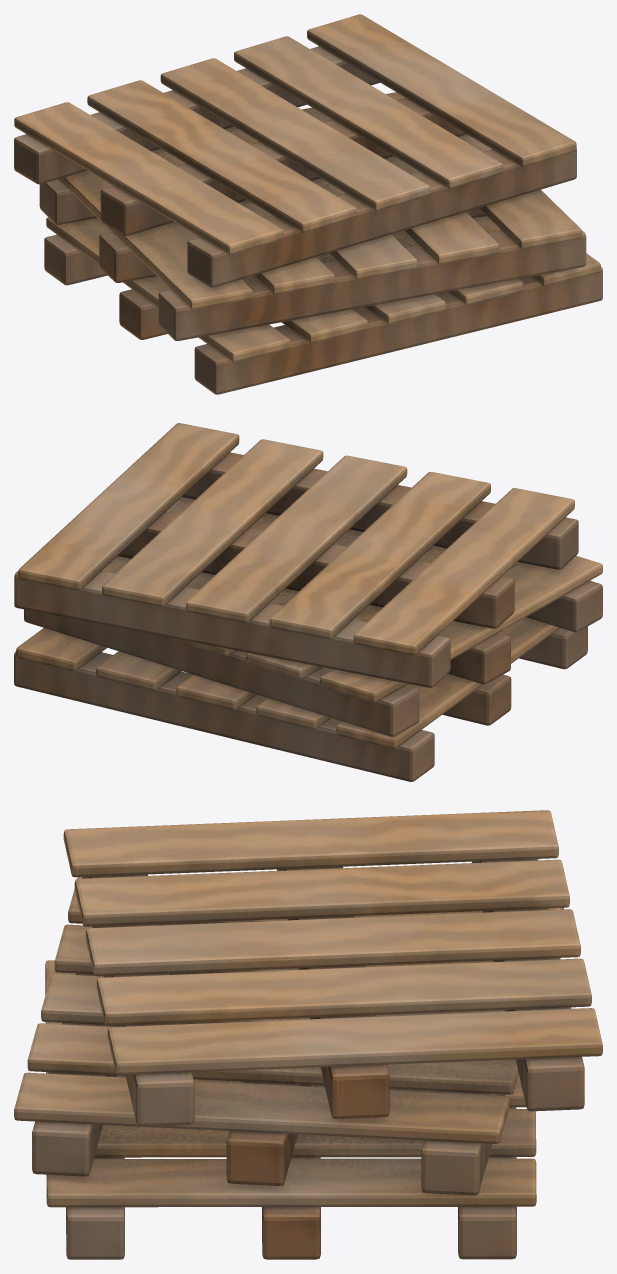
File: pallet_stack.glb
3 renders of one model, top to bottom at view 1: azimuth 30°, elevation 25°; view 2: azimuth 150°, elevation 25°; view 3: azimuth 270°, elevation 25°, orthographic. The views are drawn at different scales.
Parts seen in each view (by area): view 1: Pallet2_Mesh, Pallet1_Mesh, Pallet0_Mesh; view 2: Pallet2_Mesh, Pallet0_Mesh, Pallet1_Mesh; view 3: Pallet2_Mesh, Pallet1_Mesh, Pallet0_Mesh.
Part boxes in pixels (<box>): Pallet2_Mesh: <box>14,14,576,287</box>; Pallet1_Mesh: <box>39,92,586,340</box>; Pallet0_Mesh: <box>44,216,602,394</box>; Pallet2_Mesh: <box>14,423,578,687</box>; Pallet0_Mesh: <box>14,617,587,781</box>; Pallet1_Mesh: <box>24,497,602,736</box>; Pallet2_Mesh: <box>63,810,602,1126</box>; Pallet1_Mesh: <box>14,877,563,1195</box>; Pallet0_Mesh: <box>45,960,536,1259</box>.
Bounding box in the file's own units: 1.3 × 0.435 × 1.2.
Materials: 3 (3 with a texture image).
